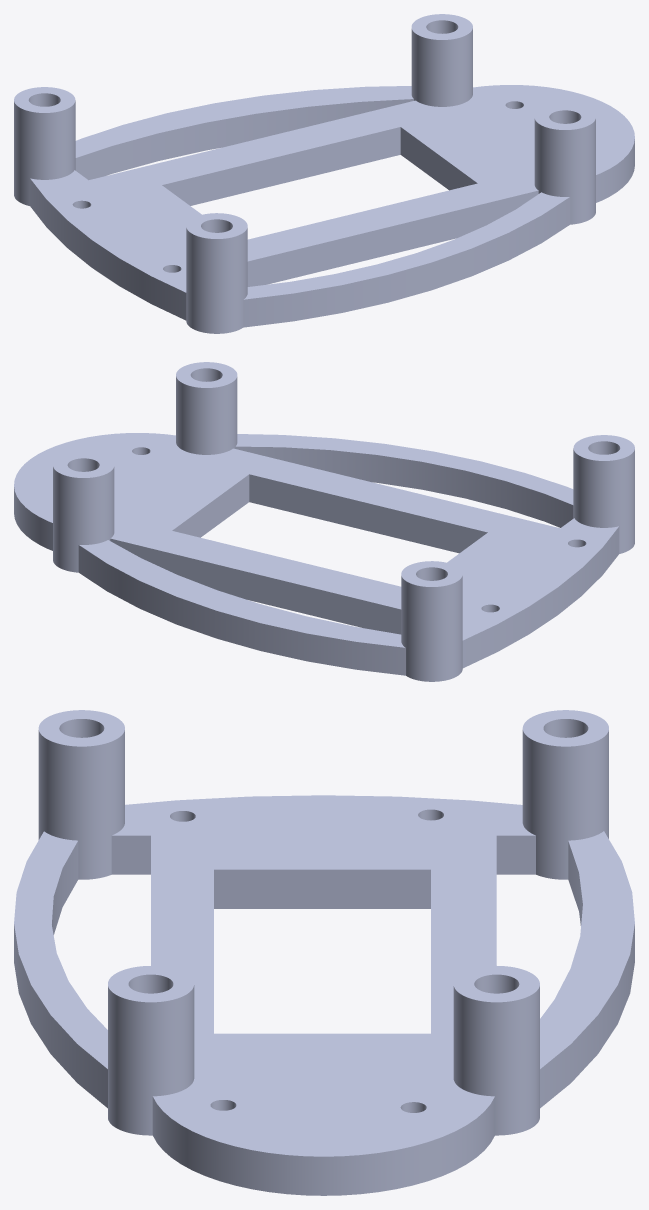
The model's file is Default__12_STEP_1_Part22_STEP_1_solid1.obj.
3 renders of one model, top to bottom at view 1: azimuth 30°, elevation 25°; view 2: azimuth 150°, elevation 25°; view 3: azimuth 270°, elevation 25°, orthographic. The views are drawn at different scales.
Parts seen in each view (by area): view 1: mesh2510, mesh2498, mesh2487, mesh2500, mesh2513, mesh2489, mesh2502, mesh2496, mesh2499, mesh2484, mesh2490, mesh2491 (+6 smaller); view 2: mesh2510, mesh2488, mesh2497, mesh2486, mesh2511, mesh2489, mesh2484, mesh2491, mesh2502, mesh2499, mesh2490, mesh2496 (+6 smaller); view 3: mesh2510, mesh2492, mesh2489, mesh2491, mesh2496, mesh2502, mesh2484, mesh2514, mesh2499, mesh2488, mesh2498, mesh2503 (+10 smaller).
Part boxes in pixels (x1,y1,x2,y2): mesh2510: (30, 85, 634, 292); mesh2498: (243, 197, 570, 327); mesh2487: (75, 99, 413, 180); mesh2500: (247, 190, 538, 286); mesh2513: (162, 127, 400, 205); mesh2489: (75, 86, 413, 157); mesh2502: (186, 228, 247, 333); mesh2496: (534, 119, 595, 224); mesh2499: (244, 192, 569, 299); mesh2484: (14, 100, 75, 205); mesh2490: (30, 178, 186, 320); mesh2491: (411, 28, 472, 106); mesh2510: (14, 433, 618, 640); mesh2488: (78, 545, 405, 675); mesh2497: (235, 446, 573, 527); mesh2486: (110, 538, 401, 634); mesh2511: (249, 474, 487, 553); mesh2489: (79, 540, 405, 647); mesh2484: (401, 576, 462, 681); mesh2491: (53, 467, 114, 572); mesh2502: (573, 448, 634, 553); mesh2499: (236, 434, 573, 504); mesh2490: (462, 526, 619, 668); mesh2496: (176, 376, 237, 454); mesh2510: (112, 795, 535, 1156); mesh2492: (152, 1097, 494, 1195); mesh2489: (540, 831, 634, 1068); mesh2491: (453, 986, 539, 1135); mesh2496: (108, 985, 194, 1135); mesh2502: (38, 730, 124, 879); mesh2484: (522, 730, 608, 879); mesh2514: (214, 869, 430, 908); mesh2499: (14, 831, 107, 1068); mesh2488: (540, 924, 634, 1108); mesh2498: (14, 924, 107, 1108); mesh2503: (38, 710, 124, 746).
Size of the model in its own units: 0.0989 by 0.017 by 0.0718.
